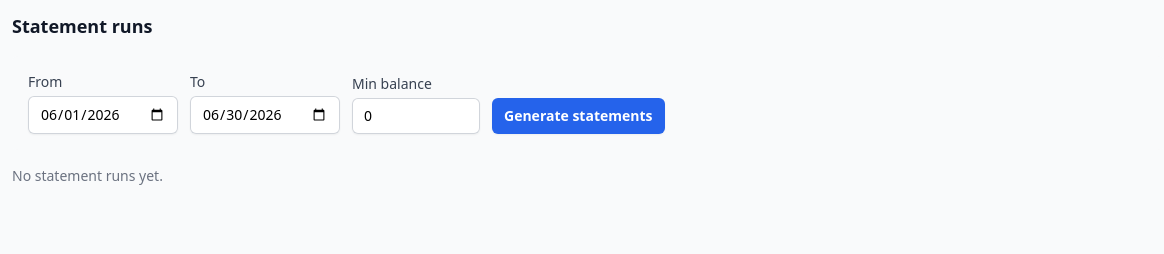
StatementRunsReport › blocks a negative minimum balance
The width and height of the screenshot is (1164, 254).
Replace the text in the number field labelled "Min balance" with "-5": [416, 116] box [352,98,480,134]
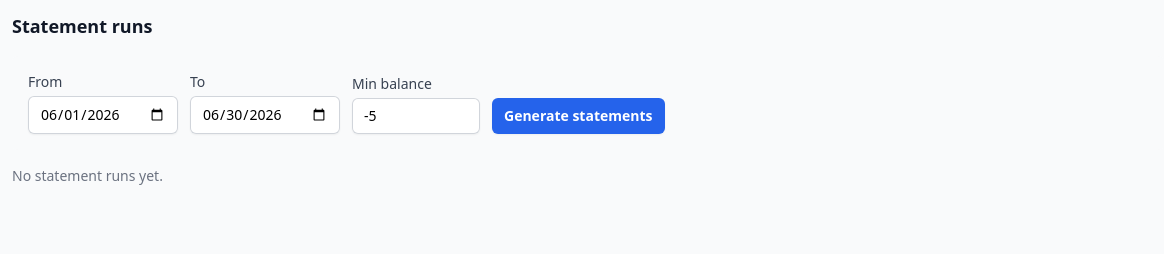
Click the button "Generate statements": [578, 116] box [492,98,664,134]
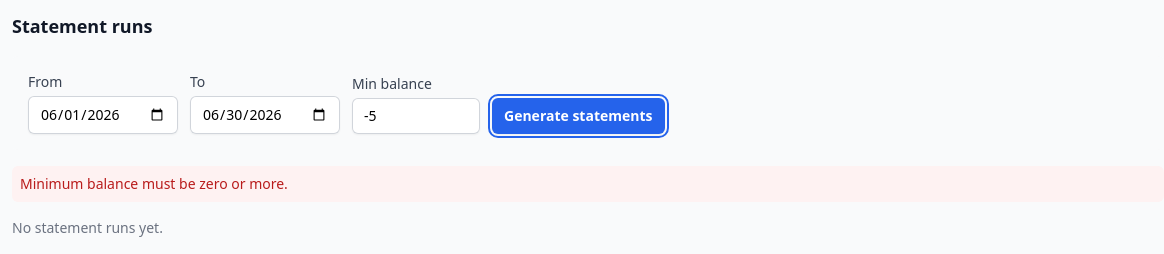
Expected: the text "Minimum balance must be zero or more." is shown, [12,166,1163,202]
